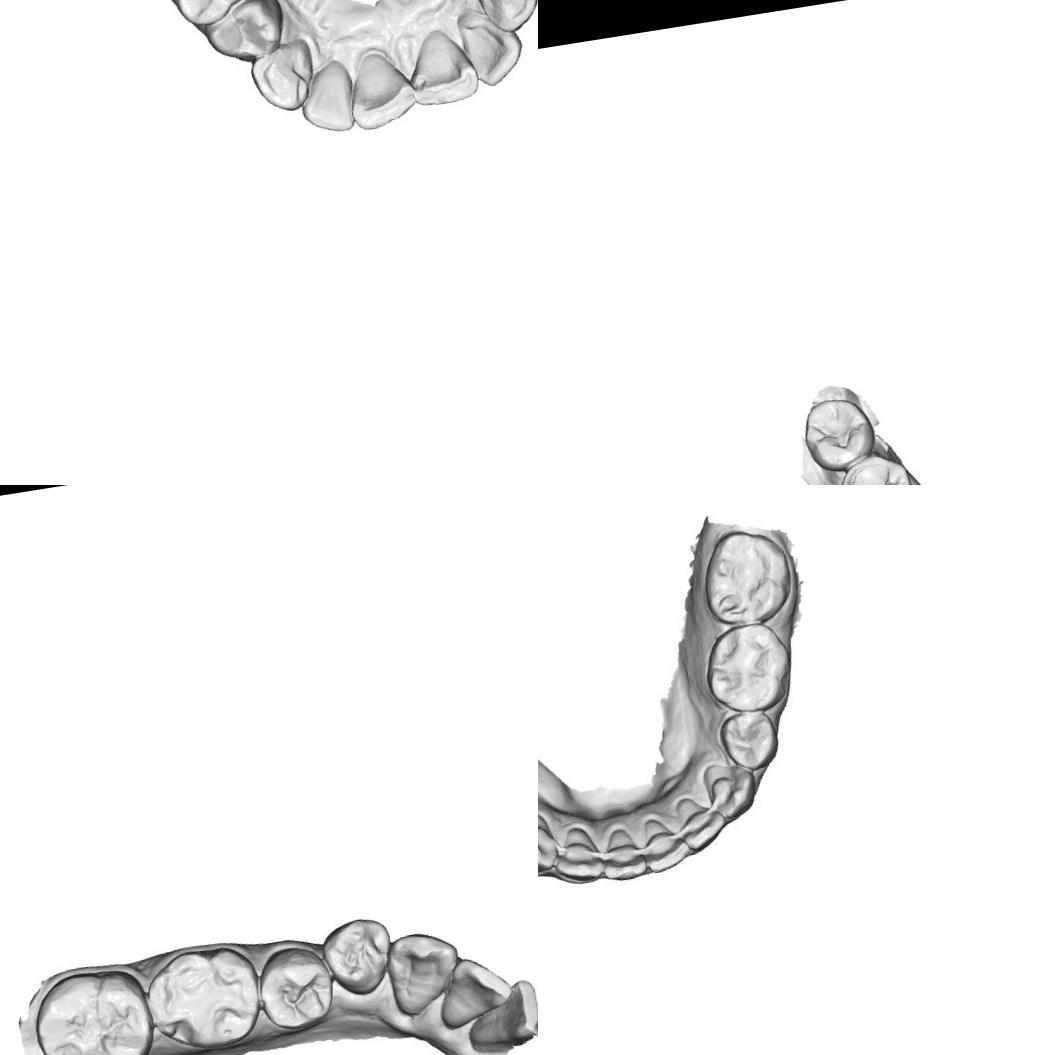canine: (382, 927, 459, 1021), (245, 34, 322, 119), (705, 760, 762, 820), (467, 0, 538, 39), (538, 812, 557, 873)
incisor: (399, 21, 482, 112), (340, 43, 420, 134), (452, 3, 529, 92), (435, 952, 510, 1036), (465, 977, 538, 1055), (294, 56, 362, 139), (600, 828, 650, 887), (642, 814, 690, 874), (676, 792, 727, 848), (555, 827, 602, 884)
molar: (139, 940, 267, 1055), (30, 963, 162, 1055), (700, 526, 794, 622), (705, 618, 796, 713), (796, 390, 877, 474), (832, 447, 920, 485)
premolar: (255, 941, 339, 1038), (320, 910, 400, 1004), (200, 0, 287, 66), (716, 708, 782, 778), (163, 0, 255, 32)
